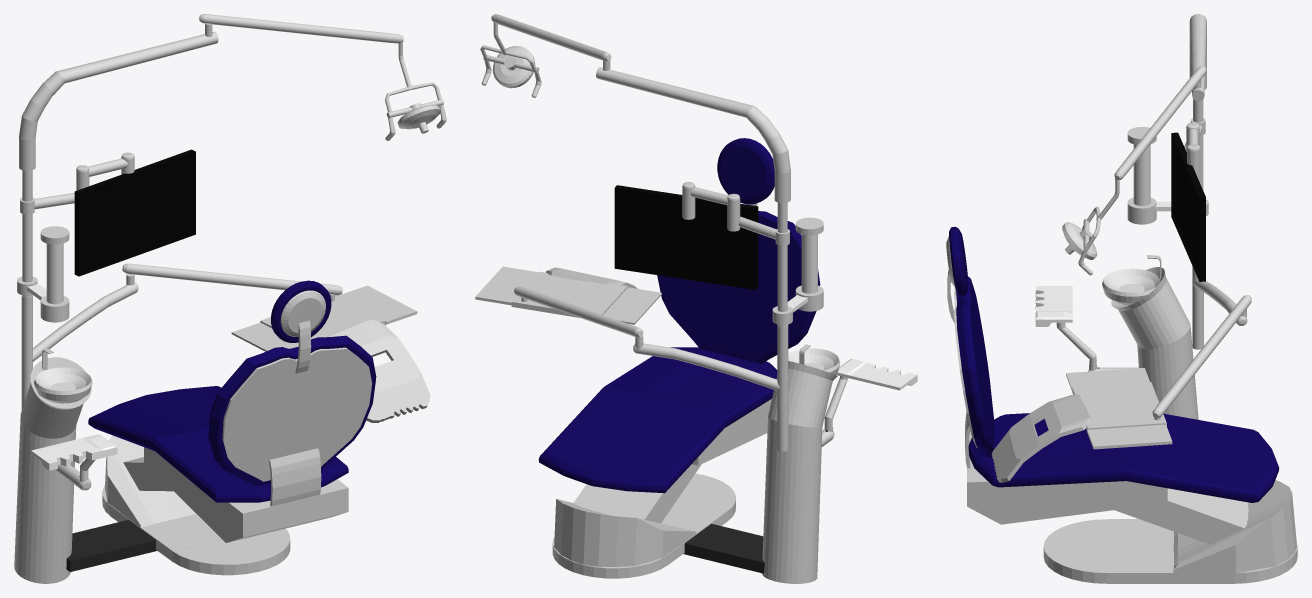
File: dental_chair_a.glb
3 renders of one model, left to right at view 1: azimuth 30°, elevation 25°; view 2: azimuth 150°, elevation 25°; view 3: azimuth 270°, elevation 25°, orthographic. The views are drawn at different scales.
Size of the model in its own units: 12.29 by 14.18 by 8.8.
